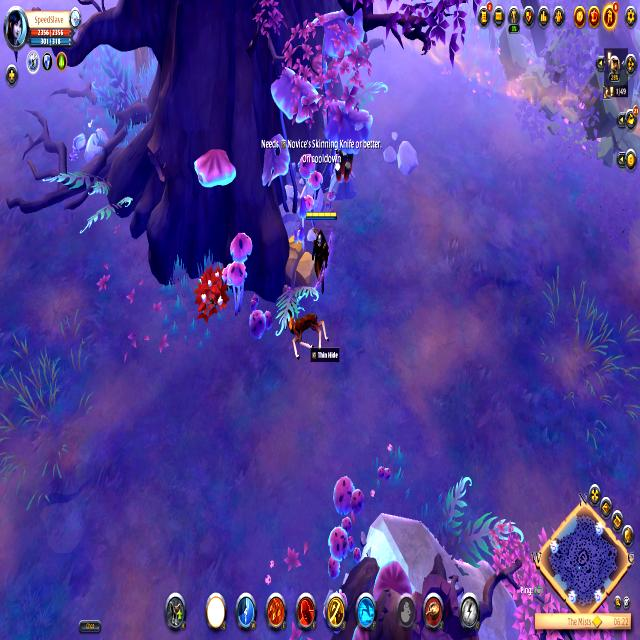hide: (192, 256, 232, 329)
mob: (276, 301, 335, 363)
red: (304, 204, 337, 293), (332, 139, 357, 192)
tree: (281, 229, 322, 303)
